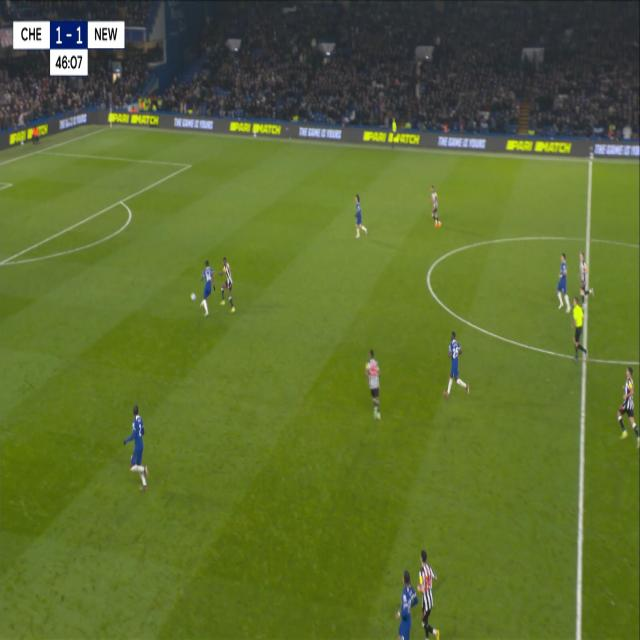Ball: (189, 286, 198, 306)
Chelsea: (121, 398, 152, 494), (393, 564, 419, 640), (197, 254, 217, 318), (554, 248, 572, 314), (352, 186, 370, 242)
New castle: (610, 360, 640, 456), (415, 545, 442, 638), (441, 326, 472, 403), (362, 344, 384, 426), (218, 252, 240, 320), (577, 248, 596, 310), (426, 180, 445, 231)
Refree: (568, 292, 589, 363)
